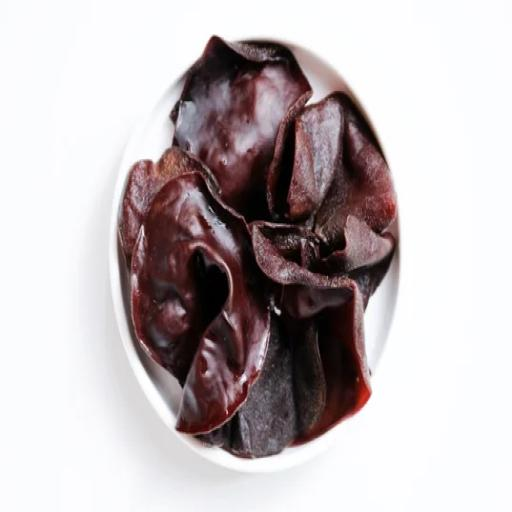Wood Ear Mushroom: (119, 39, 404, 450)
